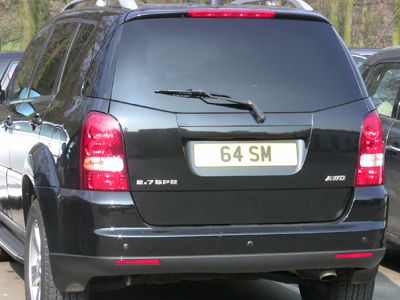licencePlate: (194, 141, 299, 168)
